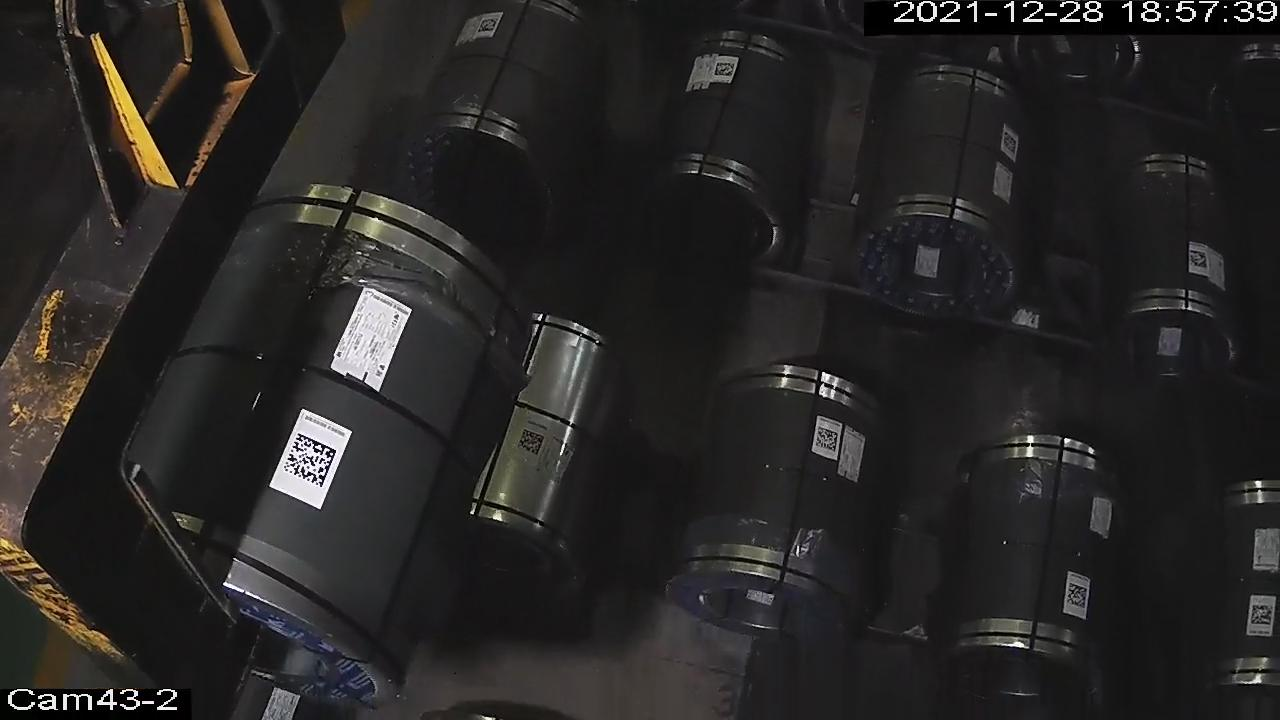data matrix: (280, 432, 340, 490), (515, 427, 548, 458), (814, 425, 841, 454), (1066, 582, 1091, 610), (1249, 604, 1276, 628), (1000, 129, 1021, 157), (1187, 248, 1211, 271), (712, 60, 738, 80), (476, 17, 501, 36)
